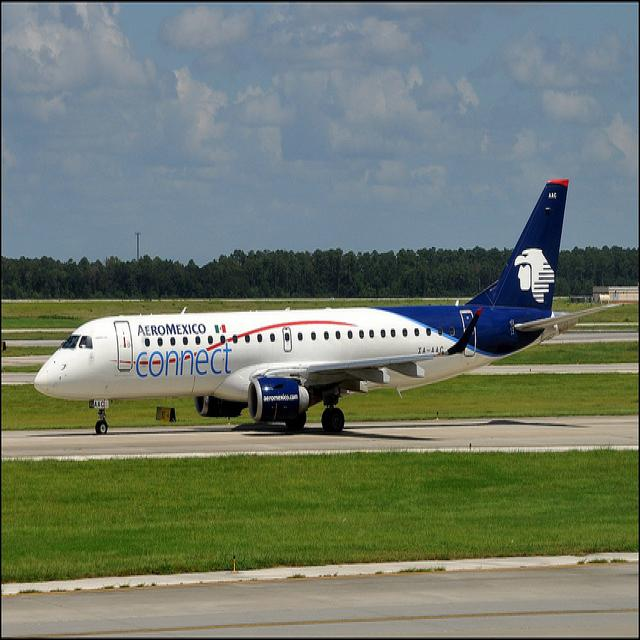airplane: (32, 180, 622, 436)
